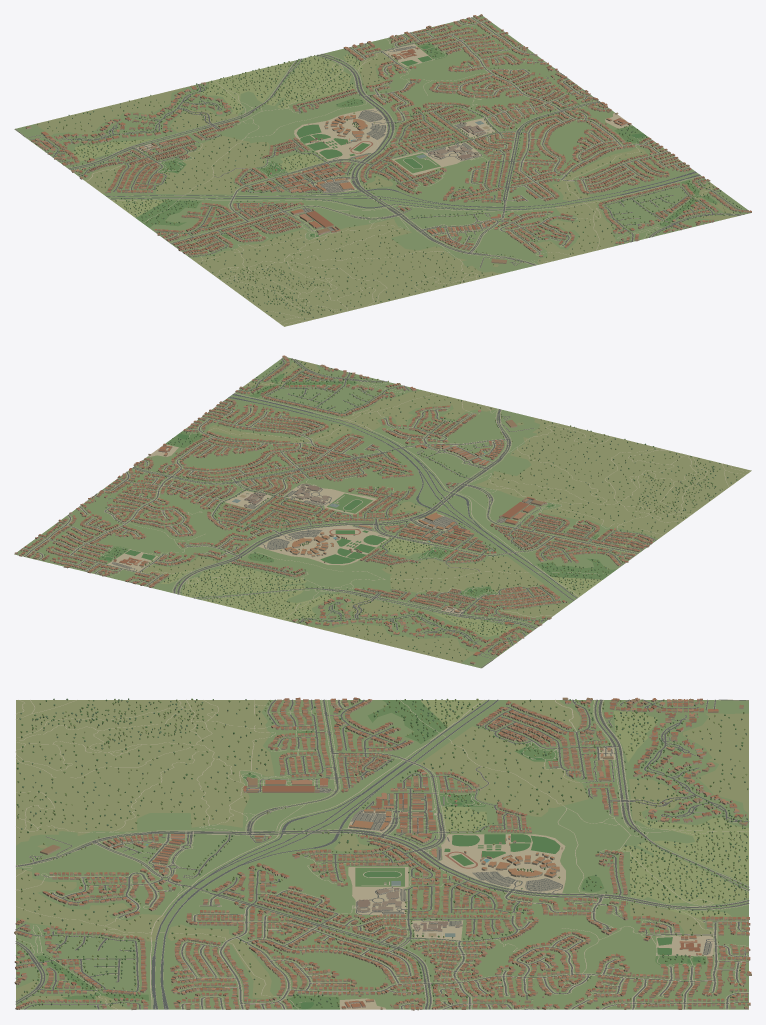
Rendered from torrey-highlands.glb.
3 renders of one model, top to bottom at view 1: azimuth 30°, elevation 25°; view 2: azimuth 150°, elevation 25°; view 3: azimuth 270°, elevation 25°, orthographic. The views are drawn at different scales.
Parts seen in each view (by area): view 1: terrain, Neighborhood buildings, Streets and paths, Trees, Mesa Verde Middle School, Westview High School; view 2: terrain, Neighborhood buildings, Streets and paths, Trees, Mesa Verde Middle School, Westview High School; view 3: terrain, Neighborhood buildings, Streets and paths, Trees, Mesa Verde Middle School, Westview High School.
Boxes of the visible parts, left/top/right/bottom form: terrain: left=14, top=15, right=750, bottom=326; Neighborhood buildings: left=25, top=14, right=751, bottom=263; Streets and paths: left=15, top=17, right=748, bottom=325; Trees: left=37, top=22, right=741, bottom=319; Mesa Verde Middle School: left=394, top=145, right=479, bottom=173; Westview High School: left=308, top=114, right=369, bottom=149; terrain: left=14, top=357, right=751, bottom=667; Neighborhood buildings: left=14, top=355, right=653, bottom=664; Streets and paths: left=22, top=358, right=749, bottom=668; Trees: left=37, top=358, right=737, bottom=661; Mesa Verde Middle School: left=294, top=483, right=372, bottom=513; Westview High School: left=284, top=532, right=362, bottom=562; terrain: left=16, top=700, right=748, bottom=1009; Neighborhood buildings: left=14, top=697, right=751, bottom=1010; Streets and paths: left=15, top=699, right=749, bottom=1009; Trees: left=16, top=698, right=748, bottom=1007; Mesa Verde Middle School: left=355, top=867, right=404, bottom=912; Westview High School: left=464, top=835, right=562, bottom=878.
Bounding box in the file's own units: 3082 × 12.51 × 3081.
